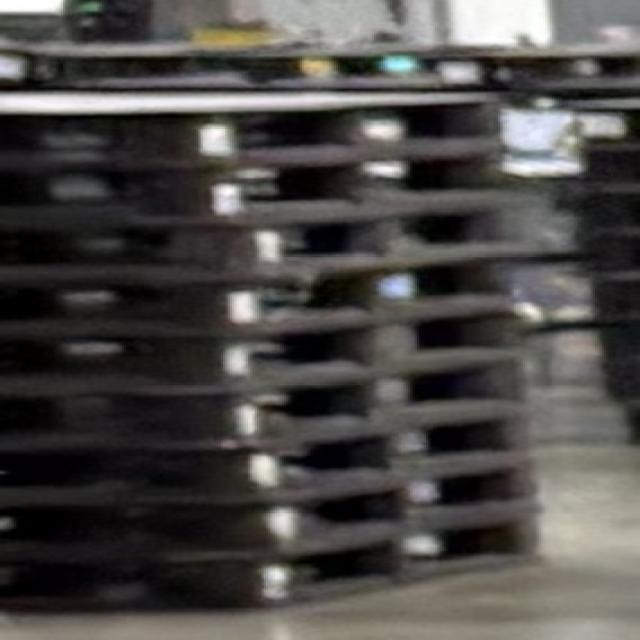igps: (0, 506, 556, 620), (0, 458, 553, 562), (0, 352, 545, 449), (0, 406, 549, 501), (3, 247, 551, 332), (0, 305, 536, 389), (0, 200, 563, 275), (0, 146, 550, 222), (0, 86, 520, 165)
